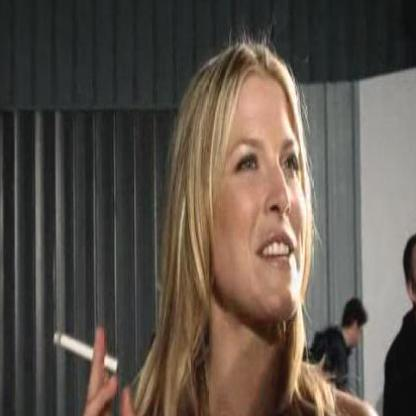cigarette: (52, 331, 119, 378)
person: (152, 56, 318, 416)
